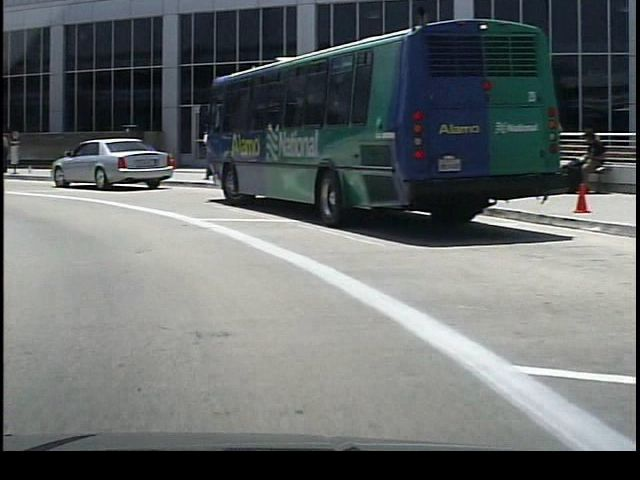person: (559, 125, 602, 196)
